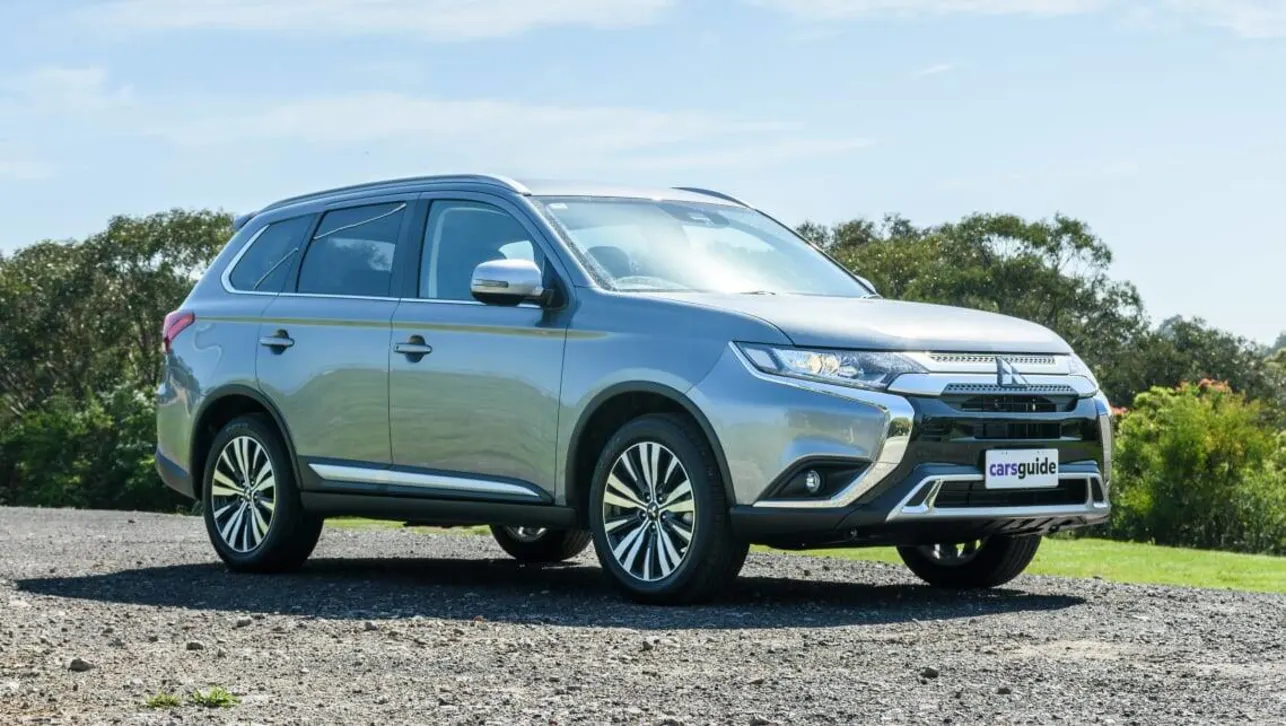car: (140, 167, 1125, 611)
